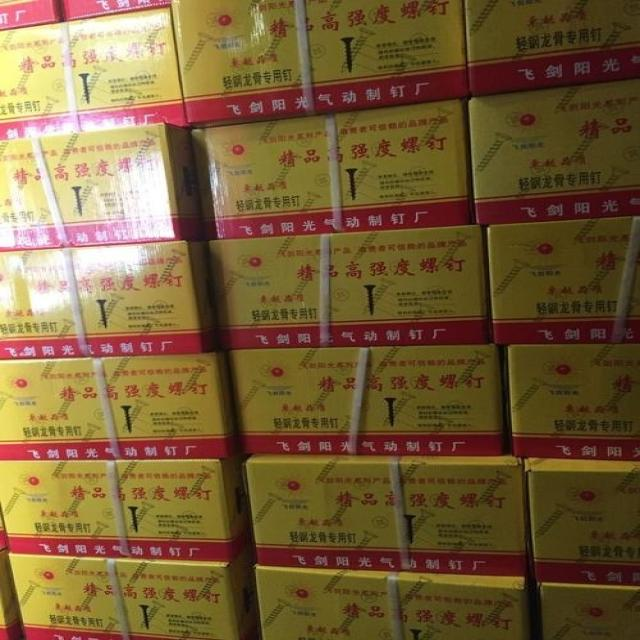box: (195, 99, 470, 237), (173, 1, 467, 128), (210, 226, 486, 349), (247, 455, 526, 576), (230, 345, 508, 455), (0, 455, 250, 563), (0, 123, 205, 250), (0, 352, 238, 459), (0, 242, 216, 359), (0, 7, 189, 140), (468, 80, 639, 222), (9, 550, 257, 639), (256, 567, 532, 640), (490, 218, 639, 343), (466, 0, 639, 93), (508, 345, 640, 460), (526, 459, 639, 585), (539, 584, 639, 640), (63, 0, 172, 19), (1, 551, 23, 640), (0, 507, 8, 551)
